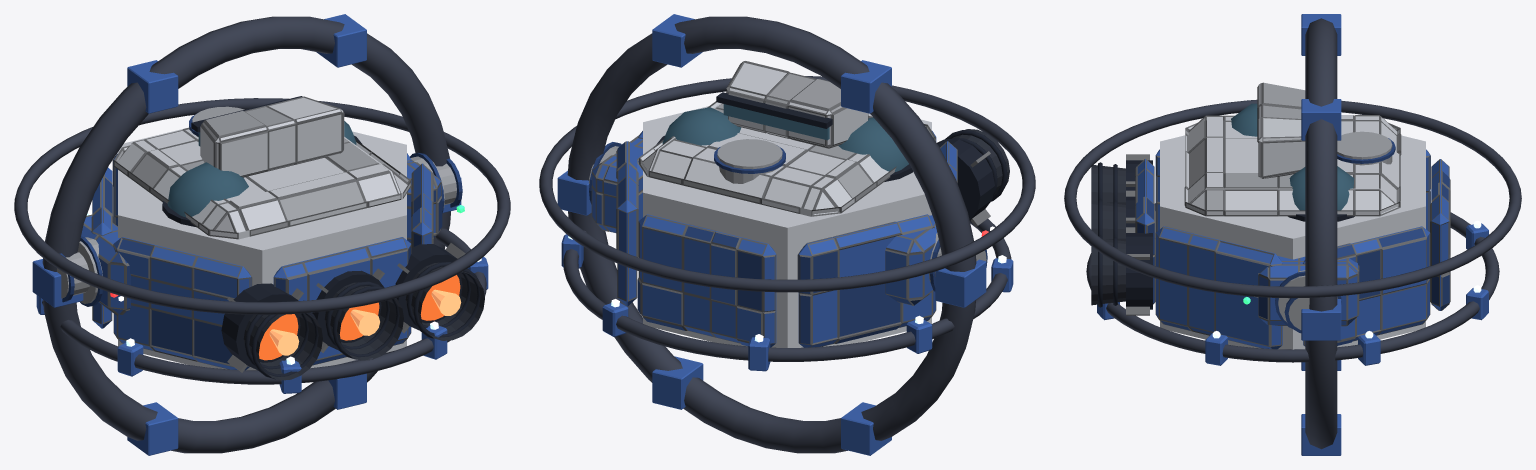
The model's file is bulwark.glb.
3 views of the same model, side by side, from view 1: azimuth 30°, elevation 25°; view 2: azimuth 150°, elevation 25°; view 3: azimuth 270°, elevation 25° (orthographic). The views are drawn at different scales.
Parts seen in each view (by area): view 1: bulwark_mesh, pedestal, pedestal.001; view 2: bulwark_mesh; view 3: bulwark_mesh.
Part boxes in pixels (x1,y1,x2,y2): bulwark_mesh: [14, 14, 510, 455]; pedestal: [57, 252, 89, 298]; pedestal.001: [436, 163, 456, 204]; bulwark_mesh: [539, 14, 1035, 455]; bulwark_mesh: [1064, 14, 1521, 455].
Size of the model in its own units: 10.19 by 9.66 by 10.19.
